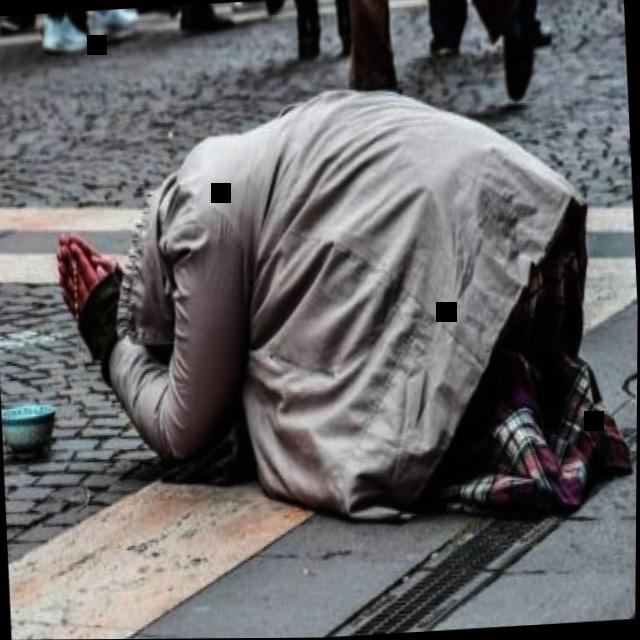Fall-Detected: (19, 61, 640, 570)
